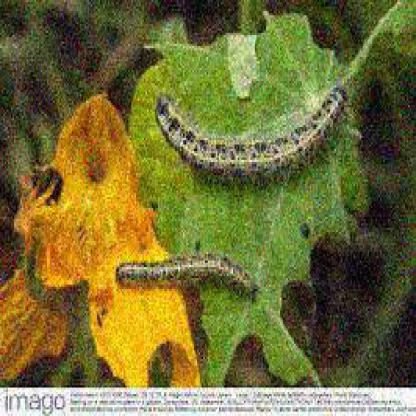pieris: (150, 82, 352, 187), (108, 255, 258, 301)
